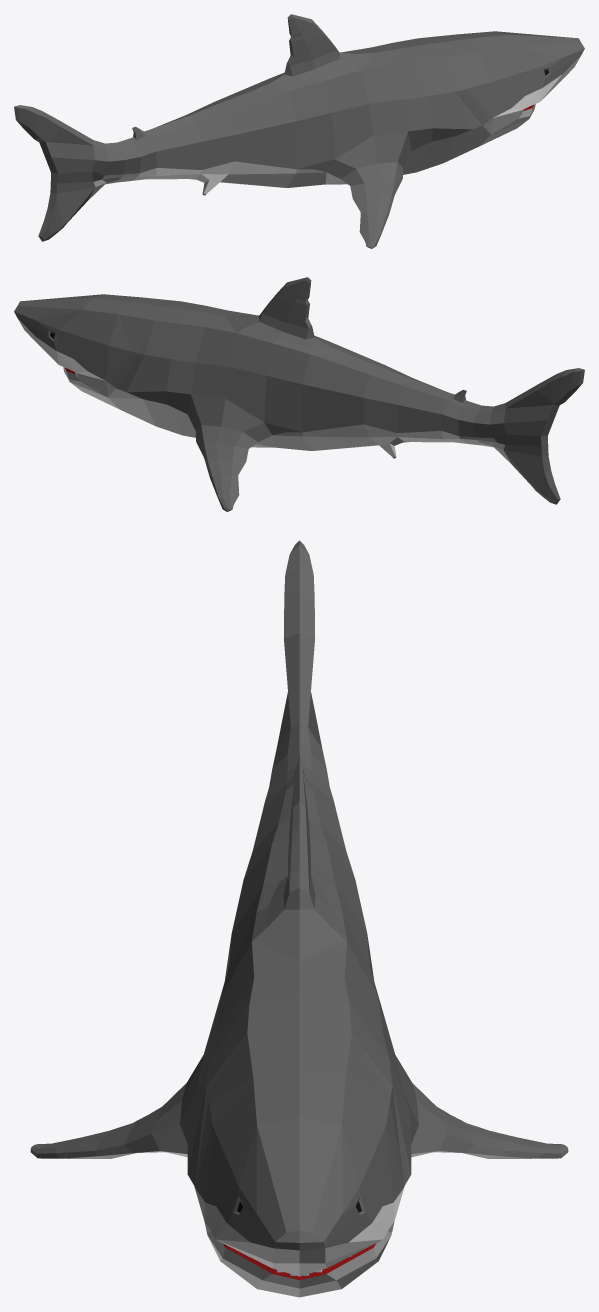
Rendered from SharkV1.fbx.
The picture shows the model from 3 angles, top to bottom: view 1: azimuth 30°, elevation 25°; view 2: azimuth 150°, elevation 25°; view 3: azimuth 270°, elevation 25°; orthographic projection. The views are drawn at different scales.
Visible parts, largest first — view 1: SharkV1; view 2: SharkV1; view 3: SharkV1.
Boxes of the visible parts, x1,y1,x2,y2 form: SharkV1: (14,14,584,248); SharkV1: (14,277,584,511); SharkV1: (30,540,568,1297).
Size of the model in its own units: 587 by 187 by 240.
